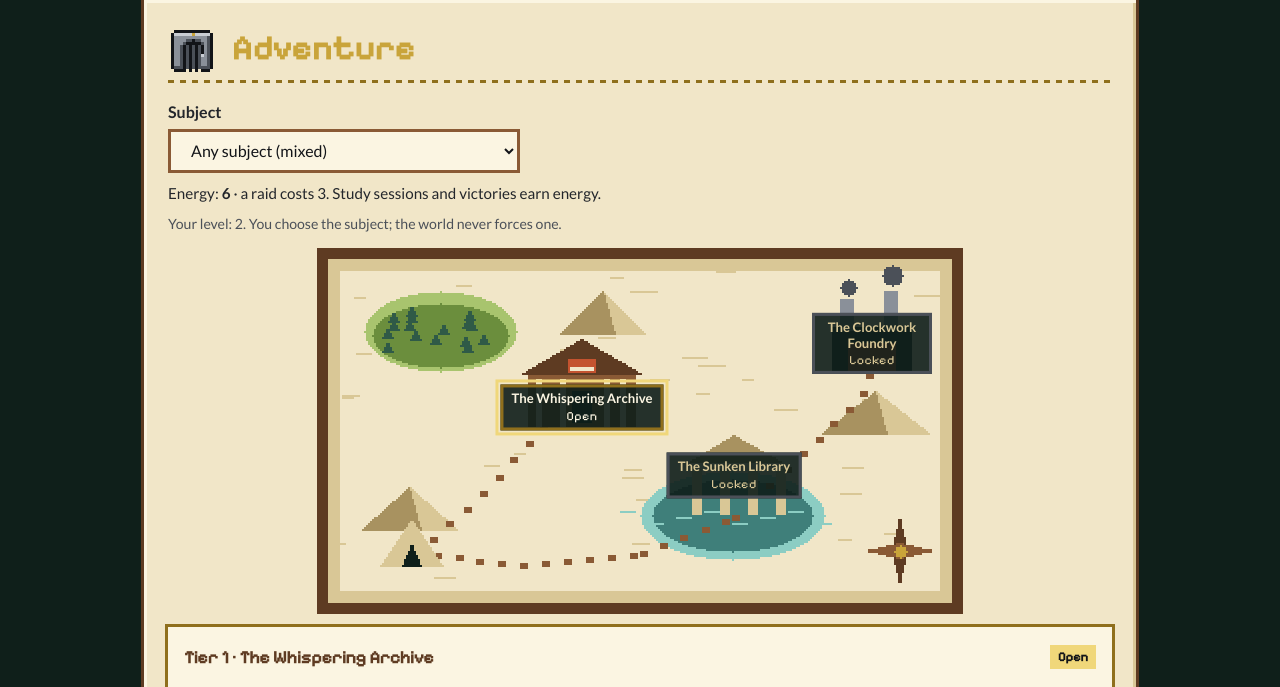
Adventure: region map › shows three regions as real buttons with their state, and says WHY a locked one is locked
This screenshot has width=1280, height=687.
Check: the button "The Whispering Archive Open" is shown, box [500, 385, 664, 430]
What coordinates should you click on to do the following:
click the button "The Sunken Library Locked"
I would click on:
 (734, 475)
Its box is [667, 453, 801, 498].
(page scrolled)
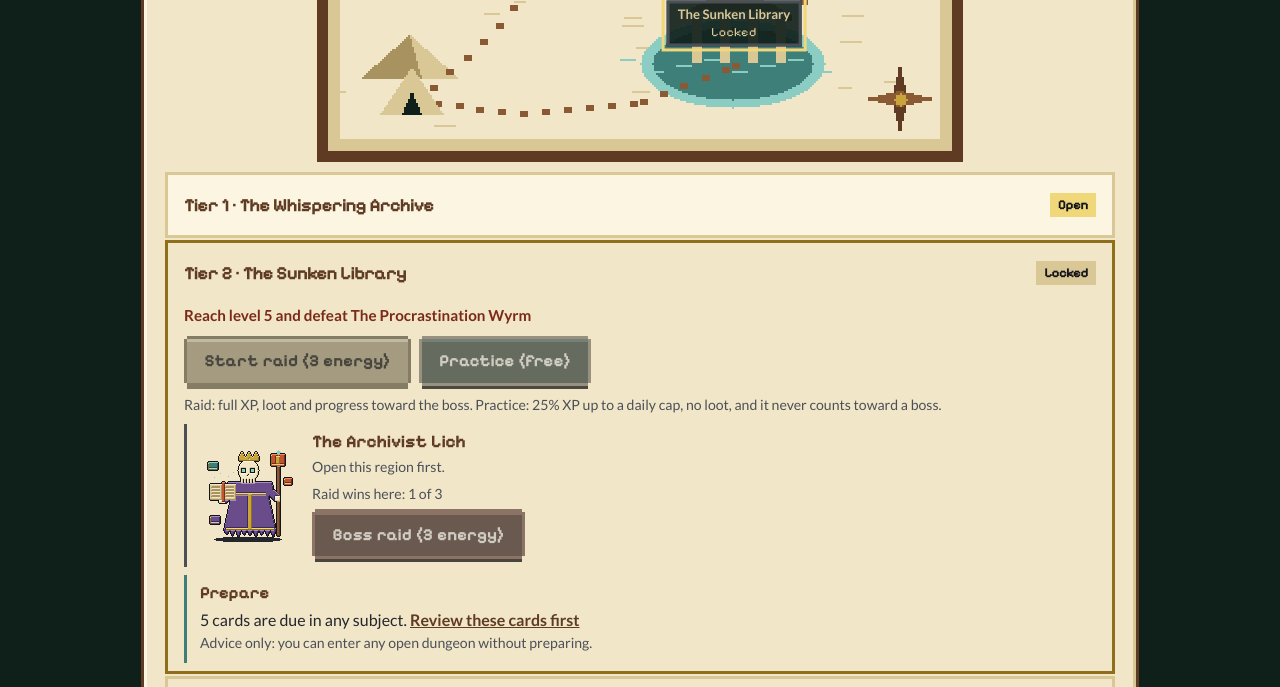
Check: the text with test id "boss-status-2" reads "Open this region first.", box [312, 458, 445, 475]
Check: the button "Start raid (3 energy)" is disabled, box [187, 339, 408, 383]
Check: the button "Practice (free)" is disabled, box [422, 339, 588, 383]
